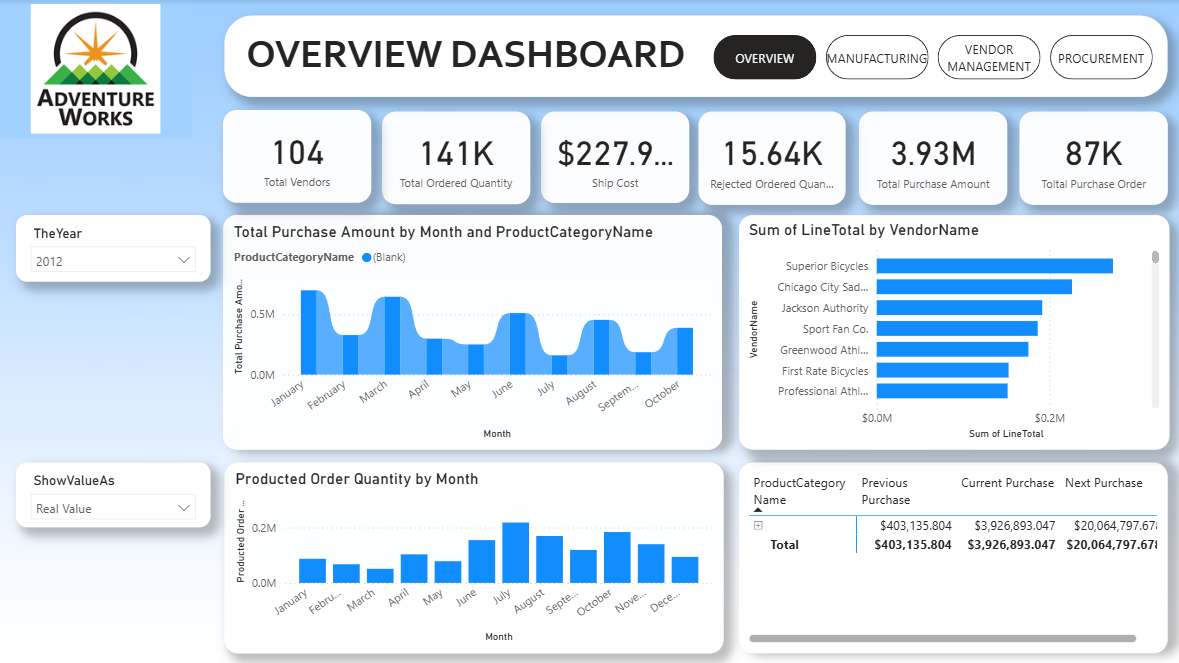

Layout of this report page (visuals, bound fields, positions):
{"tool":"powerbi","page":{"name":"OVERVIEW","canvas":[1280,720],"ordinal":0},"visuals":[{"type":"card","fields":{"Values":["DAX.Freight Total"]},"box":[586.2,121.4,160.3,98.8],"z":0},{"type":"card","fields":{"Values":["DAX.Total Ordered Quantity"]},"box":[415,121.7,160,100],"z":1000},{"type":"card","fields":{"Values":["DAX.Revenue"]},"box":[929.4,121.4,160.3,100.4],"z":2000},{"type":"card","fields":{"Values":["DAX.Rejected Ordered Quanity"]},"box":[756.2,121.4,158.7,100.4],"z":3000},{"type":"clusteredColumnChart","fields":{"Category":["Galaxy DimTime.FullDate.Variation.Date Hierarchy.Month"],"Y":["DAX.Producted Order Quantity"]},"box":[243.8,500.8,538.6,206],"z":4000},{"type":"card","fields":{"Values":["DAX.Toltal Pủchase Order"]},"box":[1102.7,121.4,160.3,100.4],"z":5000},{"type":"ribbonChart","fields":{"Category":["Galaxy DimTime.FullDate.Variation.Date Hierarchy.Month"],"Y":["DAX.Revenue"],"Series":["Galaxy DimProduct.ProductCategoryName"]},"box":[243.3,233.3,538.3,253.3],"z":6000},{"type":"textbox","box":[244,18,1018,88],"z":7000},{"type":"slicer","fields":{"Values":["DimConfigUnit.ShowValueAs"]},"box":[18.9,500.8,209.8,69.9],"z":8000},{"type":"slicer","fields":{"Values":["Galaxy DimTime.TheYear"]},"box":[18.9,232.4,209.8,71.8],"z":9000},{"type":"card","fields":{"Values":["DAX.Total Vendors"]},"box":[243.3,120,160,100],"z":10000},{"type":"pivotTable","fields":{"Rows":["Galaxy DimProduct.ProductCategoryName","Galaxy DimProduct.ProductName","Galaxy DimProduct.ProductSubcategoryName"],"Values":["DAX.Previous Purchase","DAX.Current Purchase","DAX.Next Purchase"]},"box":[799.4,500.8,463,206],"z":11000},{"type":"image","box":[0,0,210,150],"z":12000},{"type":"pageNavigator","box":[771.7,38.3,476.7,48.3],"z":13000},{"type":"barChart","fields":{"Y":["Sum(Galaxy FactPurchaseOrder.LineTotal)"],"Category":["Galaxy DimVendor.VendorName"]},"box":[799.4,232.4,464.9,253.2],"z":14000}]}

Visuals, with their boxes in screenshot pixels (x1, y1, x2, y2), scaled from the page's 1280x720 canvas onto the 1179x663 screenshot:
card - DAX.Freight Total: [x1=540, y1=112, x2=688, y2=203]
card - DAX.Total Ordered Quantity: [x1=382, y1=112, x2=530, y2=204]
card - DAX.Revenue: [x1=856, y1=112, x2=1004, y2=204]
card - DAX.Rejected Ordered Quanity: [x1=697, y1=112, x2=843, y2=204]
clusteredColumnChart - Galaxy DimTime.FullDate.Variation.Date Hierarchy.Month x DAX.Producted Order Quantity: [x1=225, y1=461, x2=721, y2=651]
card - DAX.Toltal Pủchase Order: [x1=1016, y1=112, x2=1163, y2=204]
ribbonChart - Galaxy DimTime.FullDate.Variation.Date Hierarchy.Month x DAX.Revenue: [x1=224, y1=215, x2=720, y2=448]
textbox: [x1=225, y1=17, x2=1162, y2=98]
slicer - DimConfigUnit.ShowValueAs: [x1=17, y1=461, x2=211, y2=526]
slicer - Galaxy DimTime.TheYear: [x1=17, y1=214, x2=211, y2=280]
card - DAX.Total Vendors: [x1=224, y1=110, x2=371, y2=203]
pivotTable - Galaxy DimProduct.ProductCategoryName x Galaxy DimProduct.ProductName: [x1=736, y1=461, x2=1163, y2=651]
image: [x1=0, y1=0, x2=193, y2=138]
pageNavigator: [x1=711, y1=35, x2=1150, y2=80]
barChart - Sum(Galaxy FactPurchaseOrder.LineTotal) x Galaxy DimVendor.VendorName: [x1=736, y1=214, x2=1165, y2=447]
